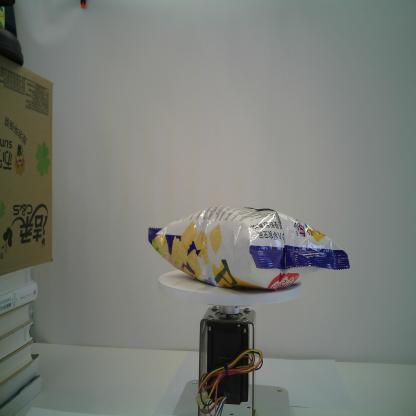Puffed Food: (147, 203, 350, 291)
